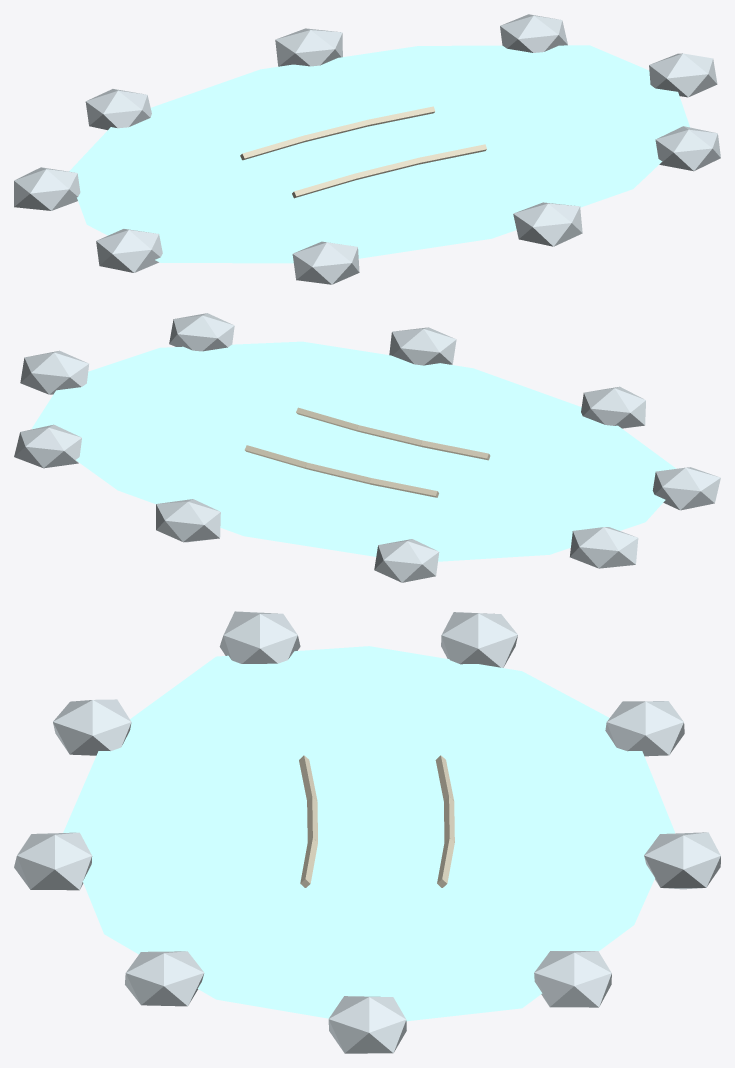
The model's file is enfeite_lago.glb.
3 views of the same model, one above another, from view 1: azimuth 30°, elevation 25°; view 2: azimuth 150°, elevation 25°; view 3: azimuth 270°, elevation 25° (orthographic). The views are drawn at different scales.
Parts seen in each view (by area): view 1: neve_enfeite_lago; view 2: neve_enfeite_lago; view 3: neve_enfeite_lago.
Part boxes in pixels (box(x1,y1,x2,y2)): neve_enfeite_lago: box(14, 14, 720, 284); neve_enfeite_lago: box(14, 313, 720, 582); neve_enfeite_lago: box(14, 611, 720, 1053).
Size of the model in its own units: 1.54 by 0.0951 by 1.09.
